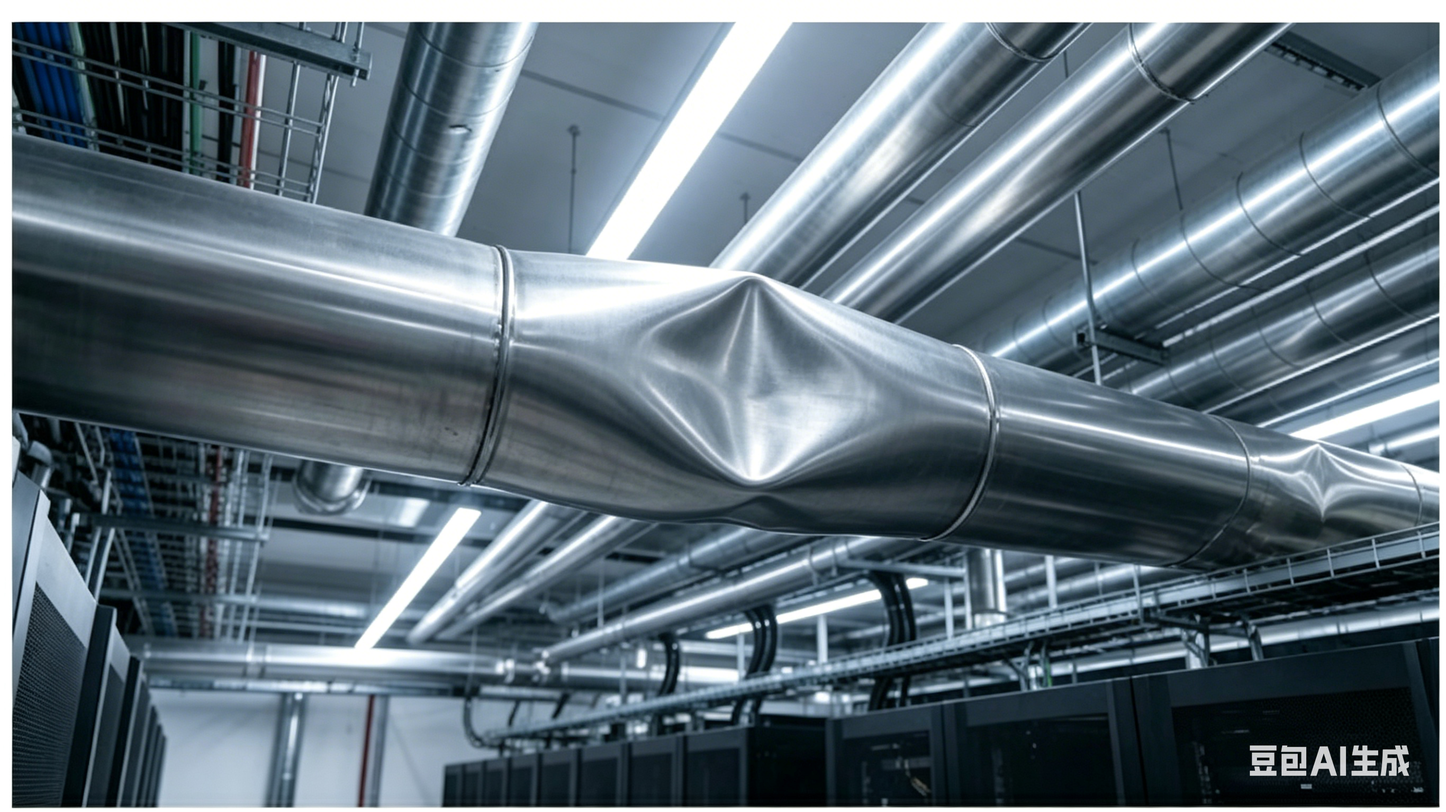Leakage: (616, 269, 944, 524), (1241, 426, 1412, 525)
